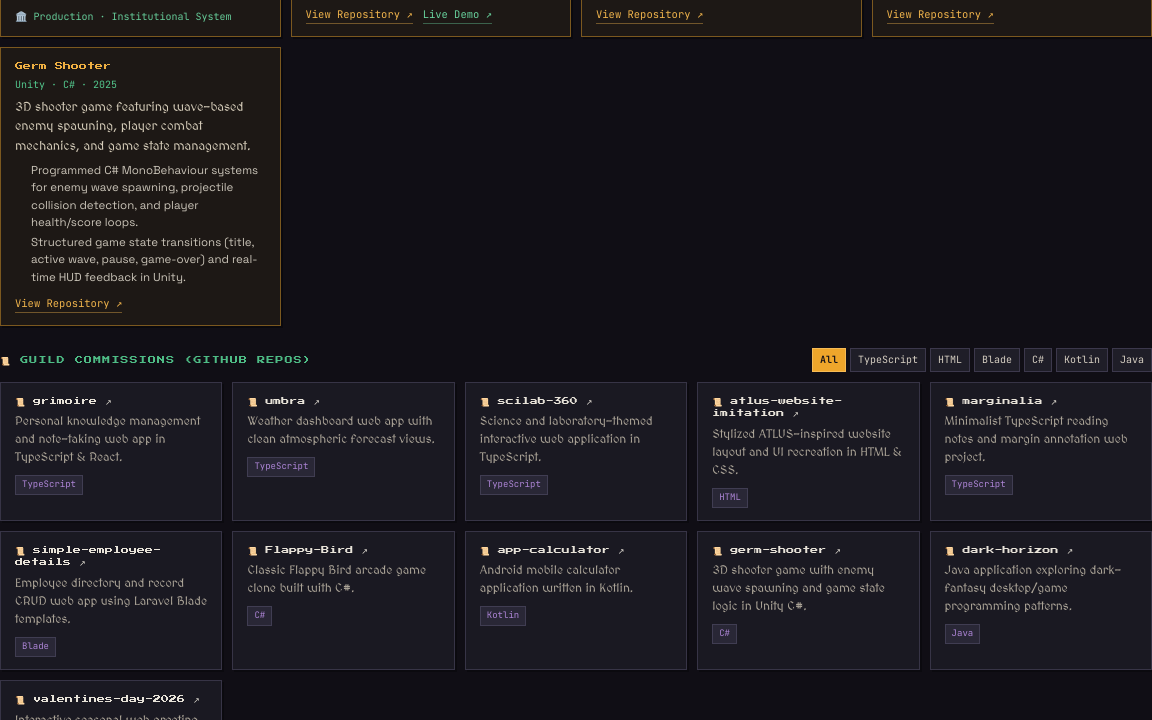
Test case: Portfolio modals › renders featured quests and repository links in QuestBoardModal and supports technology filtering
(page scrolled)
Expected: the text "Germ Shooter" is shown, [15,62,111,70]
Filter guild commissions by Kotlin
Click the button "Kotlin" at (1082, 360), box [1056,348,1108,372]
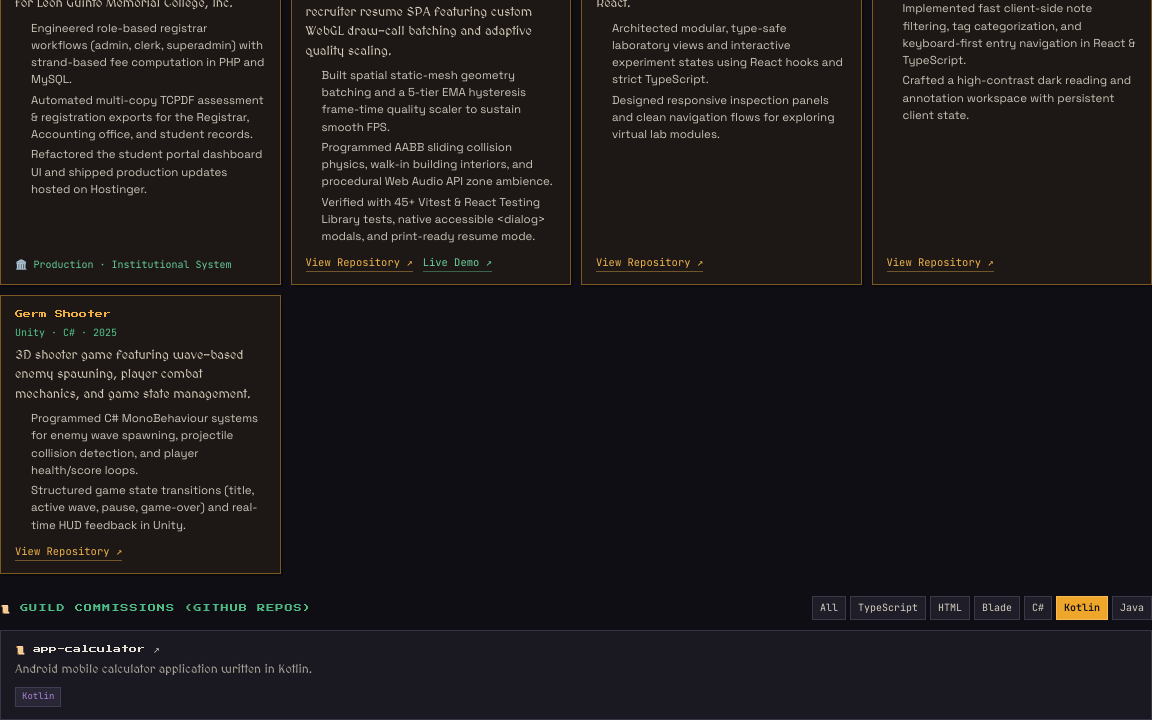
Expected: the link "app-calculator" is shown, [0,630,1151,719]
Expected: the link "umbra" is gone
